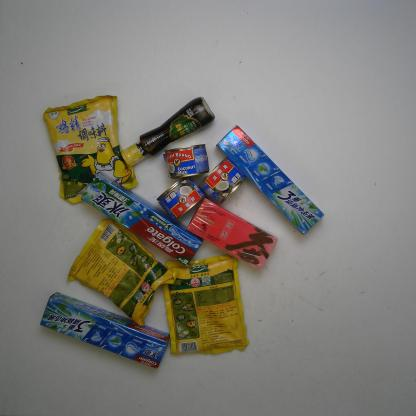Canned Food: (193, 158, 247, 206), (153, 177, 208, 221), (156, 141, 214, 181)
Instant Drink: (186, 198, 278, 270)
Personal Hygiene: (212, 124, 325, 236), (38, 289, 172, 374), (80, 174, 202, 267)
Seasoner: (66, 216, 177, 328), (38, 92, 143, 210), (159, 254, 251, 358), (117, 98, 219, 171)
